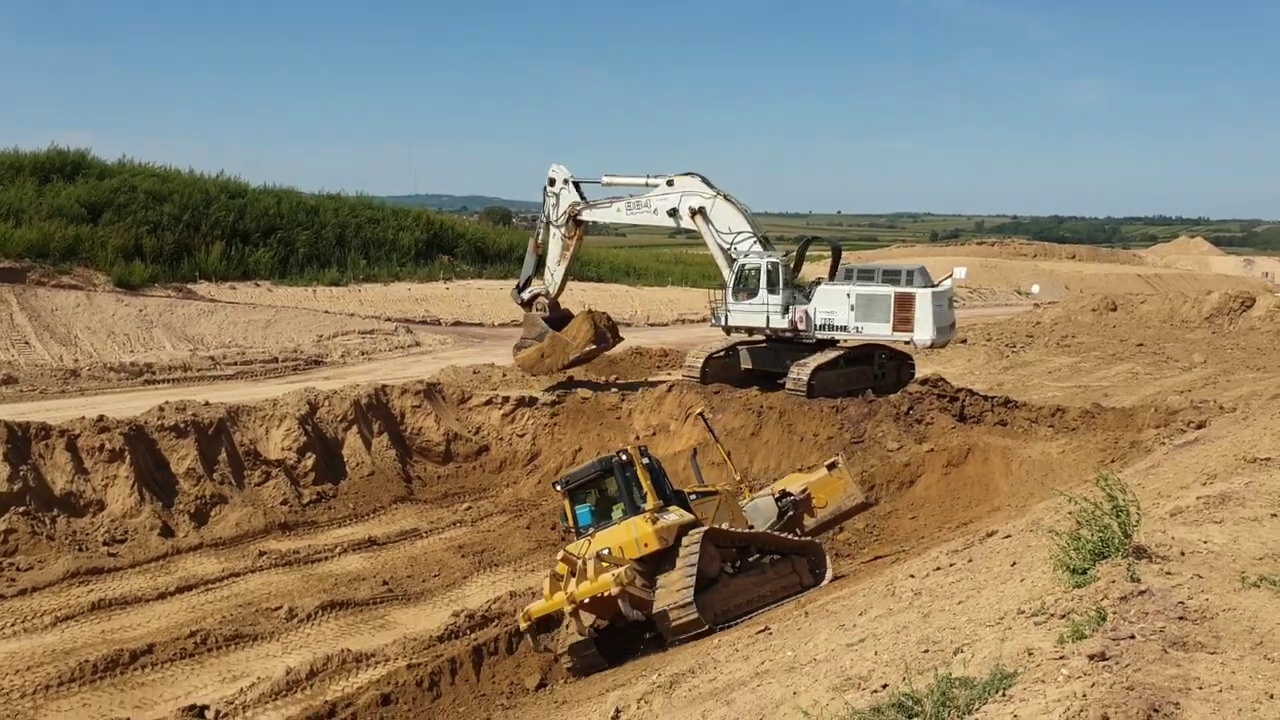bulldozer: (518, 406, 878, 678)
excavator: (505, 157, 964, 406)
